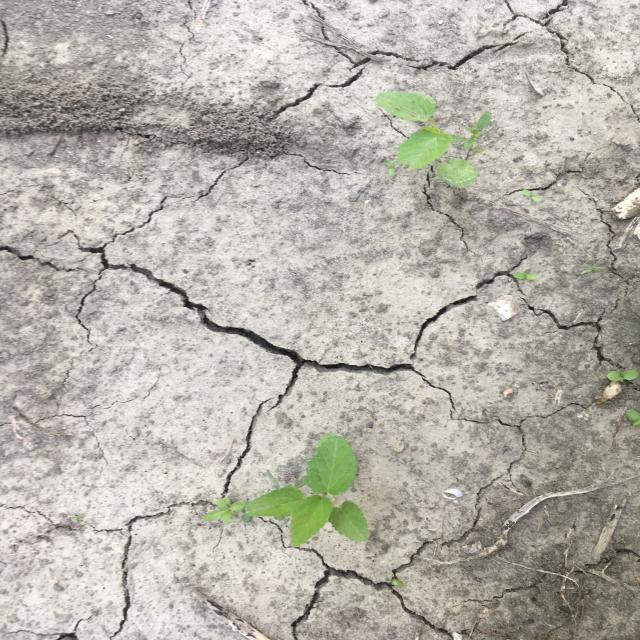PricklySida: (242, 433, 371, 548), (371, 89, 495, 191)
